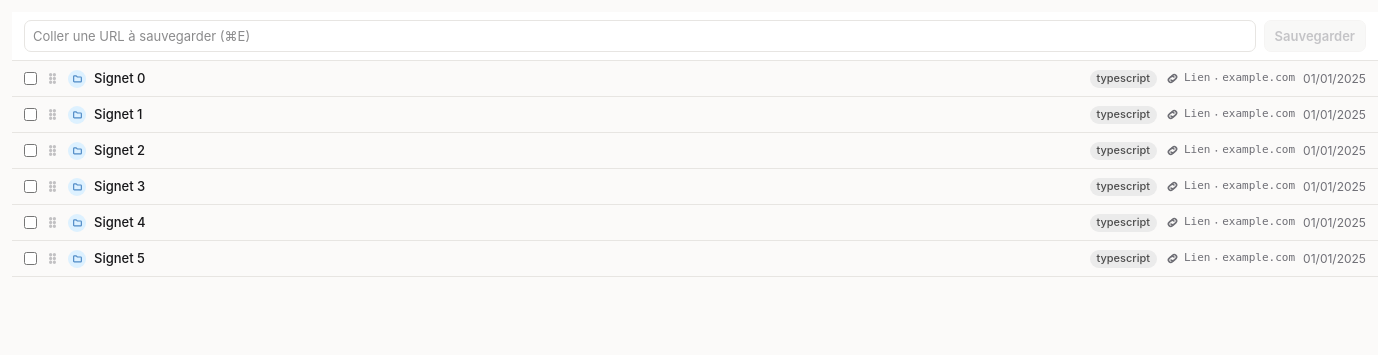
Test case: ListPane — sélectionner plusieurs signets sans les cocher un à un › « Tout sélectionner » coche tous les signets chargés, puis s'efface
Click the checkbox named "Sélectionner Signet 0". click: click(30, 78)
box: [24,72,37,85]
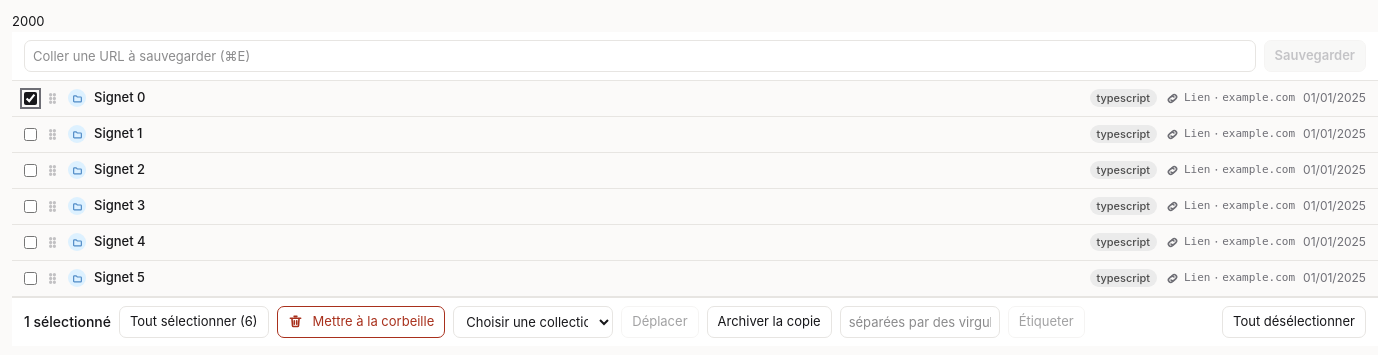
Click the button "Tout sélectionner (6)". click: click(194, 322)
box: [119,306,269,338]
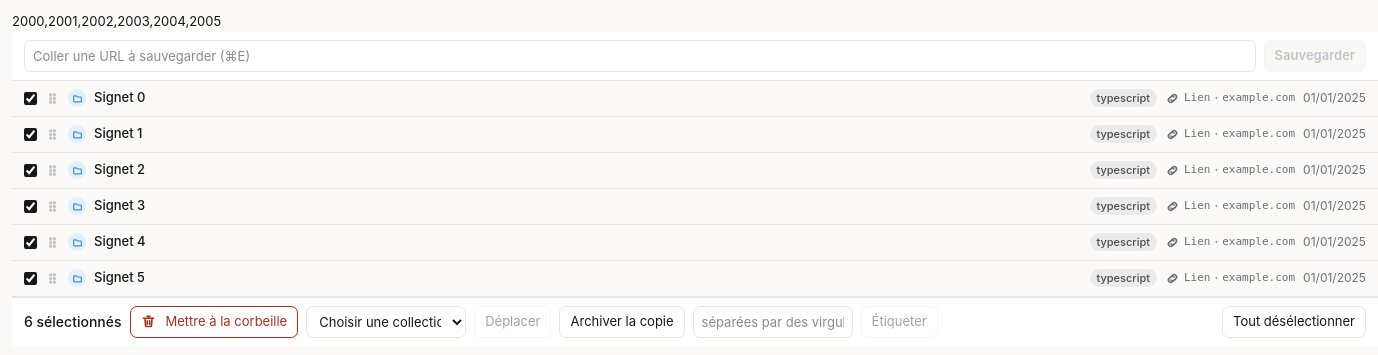
Check: the button "Tout sélectionner" is gone
